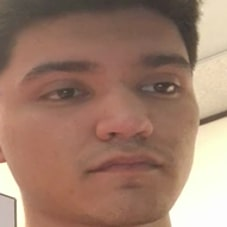awake: (16, 46, 199, 196)
